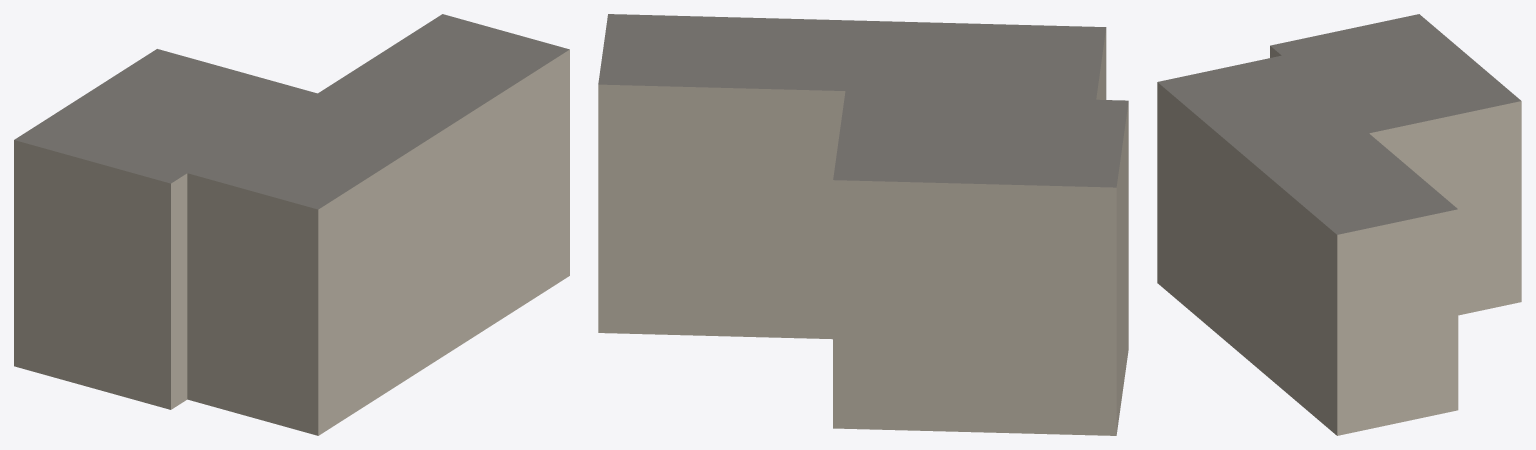
3 renders of one model, left to right at view 1: azimuth 30°, elevation 25°; view 2: azimuth 150°, elevation 25°; view 3: azimuth 270°, elevation 25°, orthographic. The views are drawn at different scales.
Visible parts, largest first — view 1: HP-w1287261390; view 2: HP-w1287261390; view 3: HP-w1287261390.
Boxes of the visible parts, left/top/right/bottom form: HP-w1287261390: left=14, top=14, right=569, bottom=435; HP-w1287261390: left=598, top=14, right=1128, bottom=435; HP-w1287261390: left=1157, top=14, right=1521, bottom=435.
Bounding box in the file's own units: 42.41 × 18 × 29.56.
